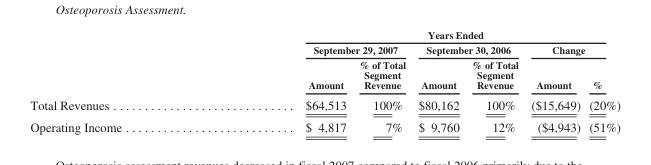table: (29, 28, 619, 134)
table column: (29, 28, 212, 134), (212, 28, 352, 134), (524, 28, 584, 134), (352, 28, 411, 134), (465, 28, 524, 134), (411, 28, 465, 134), (584, 28, 619, 134)
table column header: (29, 28, 619, 93)
table row: (29, 57, 619, 93), (29, 93, 619, 115), (29, 115, 619, 134), (29, 41, 619, 57), (29, 28, 619, 41)
table spanning cell: (212, 28, 619, 41), (212, 41, 411, 57), (411, 41, 524, 57), (524, 41, 619, 57)
